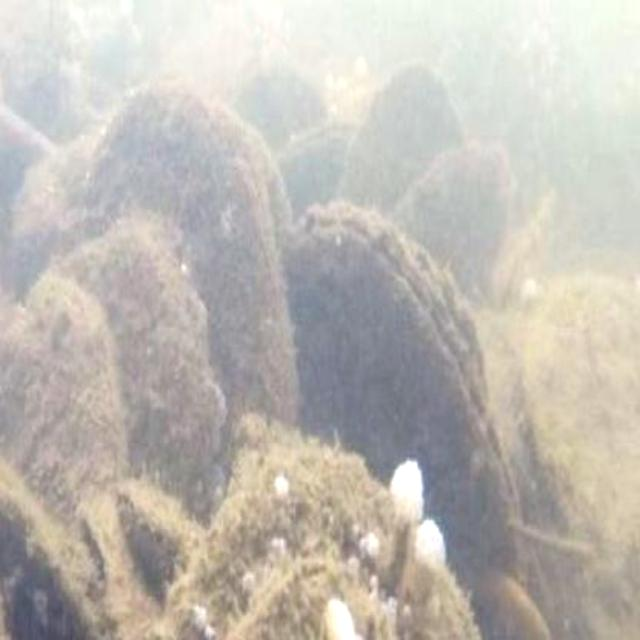Oyster-Closed: (281, 196, 528, 593), (80, 84, 306, 483), (163, 409, 473, 640), (521, 263, 640, 640), (4, 277, 130, 539), (337, 56, 468, 213), (0, 454, 97, 640), (391, 148, 509, 293), (19, 128, 108, 297), (232, 58, 330, 146), (280, 112, 355, 221), (469, 571, 557, 640)
